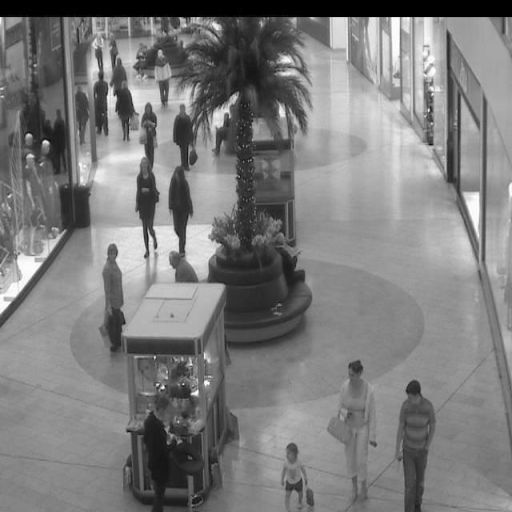person: (390, 378, 437, 512), (336, 360, 380, 502), (142, 396, 177, 511), (133, 155, 162, 259), (280, 442, 320, 510), (101, 243, 125, 352), (169, 165, 194, 259), (173, 104, 198, 171), (115, 80, 138, 141), (92, 69, 111, 136), (152, 47, 173, 106), (167, 247, 200, 282), (141, 102, 157, 168), (213, 112, 230, 154), (92, 35, 106, 71), (111, 57, 126, 89), (108, 33, 118, 66)
